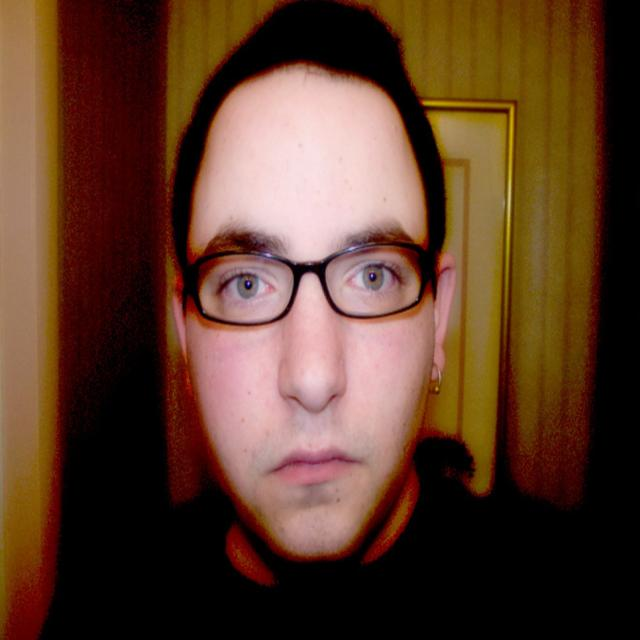Glasses: (176, 246, 437, 330)
